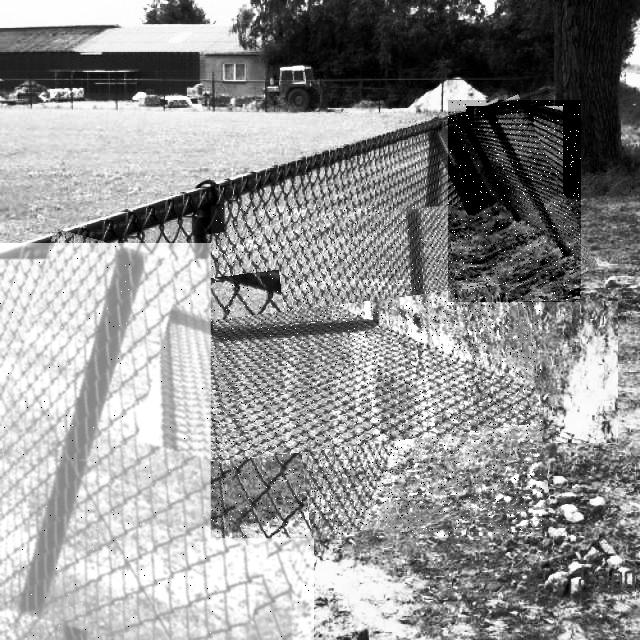fences: (0, 243, 314, 640), (211, 206, 542, 538), (448, 100, 581, 302)
